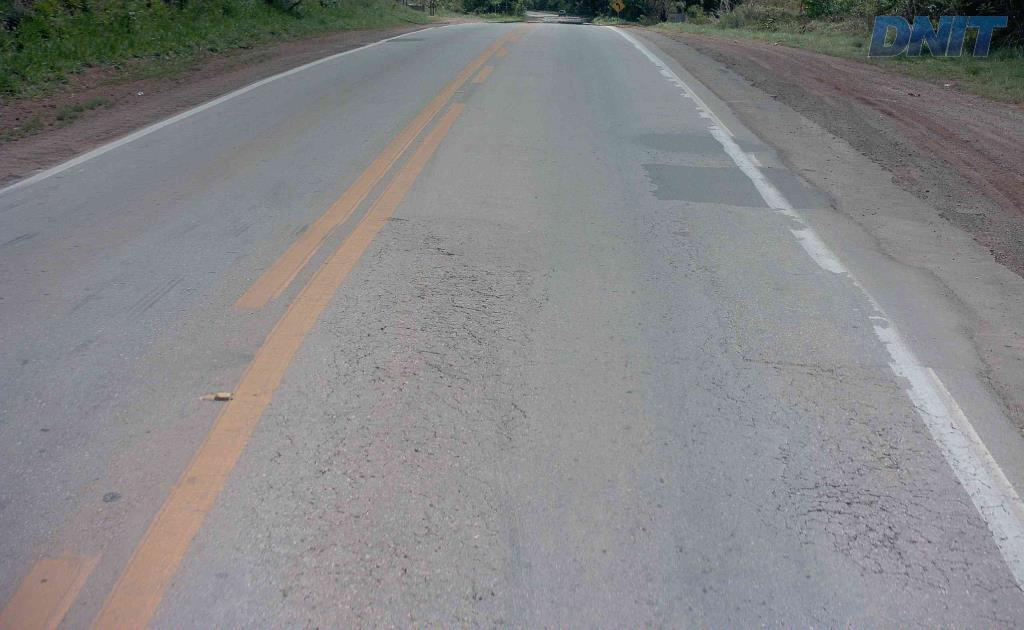crack: (419, 262, 516, 346), (422, 230, 464, 261)
